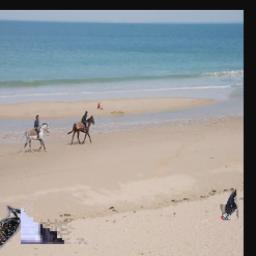Crow: (22, 48, 95, 245)
Woodpecker: (0, 206, 26, 256), (220, 189, 238, 220)
